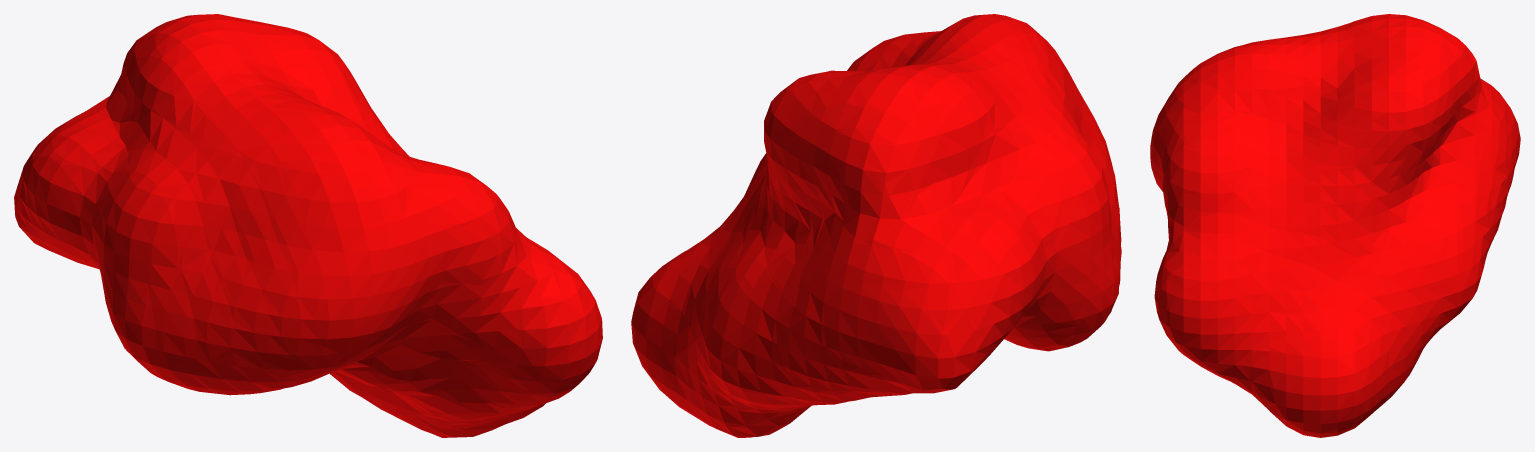
File: ymgG_coarse.dae
The picture shows the model from 3 angles, left to right: view 1: azimuth 30°, elevation 25°; view 2: azimuth 150°, elevation 25°; view 3: azimuth 270°, elevation 25°; orthographic projection. The views are drawn at different scales.
Visible parts, largest first — view 1: ymgG; view 2: ymgG; view 3: ymgG.
Part boxes in pixels (left/top/right/bottom): ymgG: left=14, top=14, right=602, bottom=437; ymgG: left=631, top=14, right=1121, bottom=437; ymgG: left=1150, top=14, right=1520, bottom=437.
Bounding box in the file's own units: 40.05 × 36.34 × 37.14.
